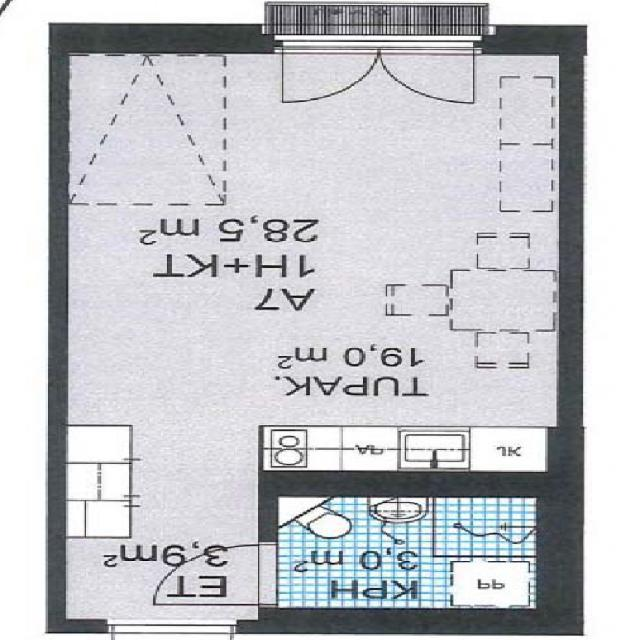door: (281, 24, 378, 110), (378, 24, 474, 110), (156, 546, 276, 604)
